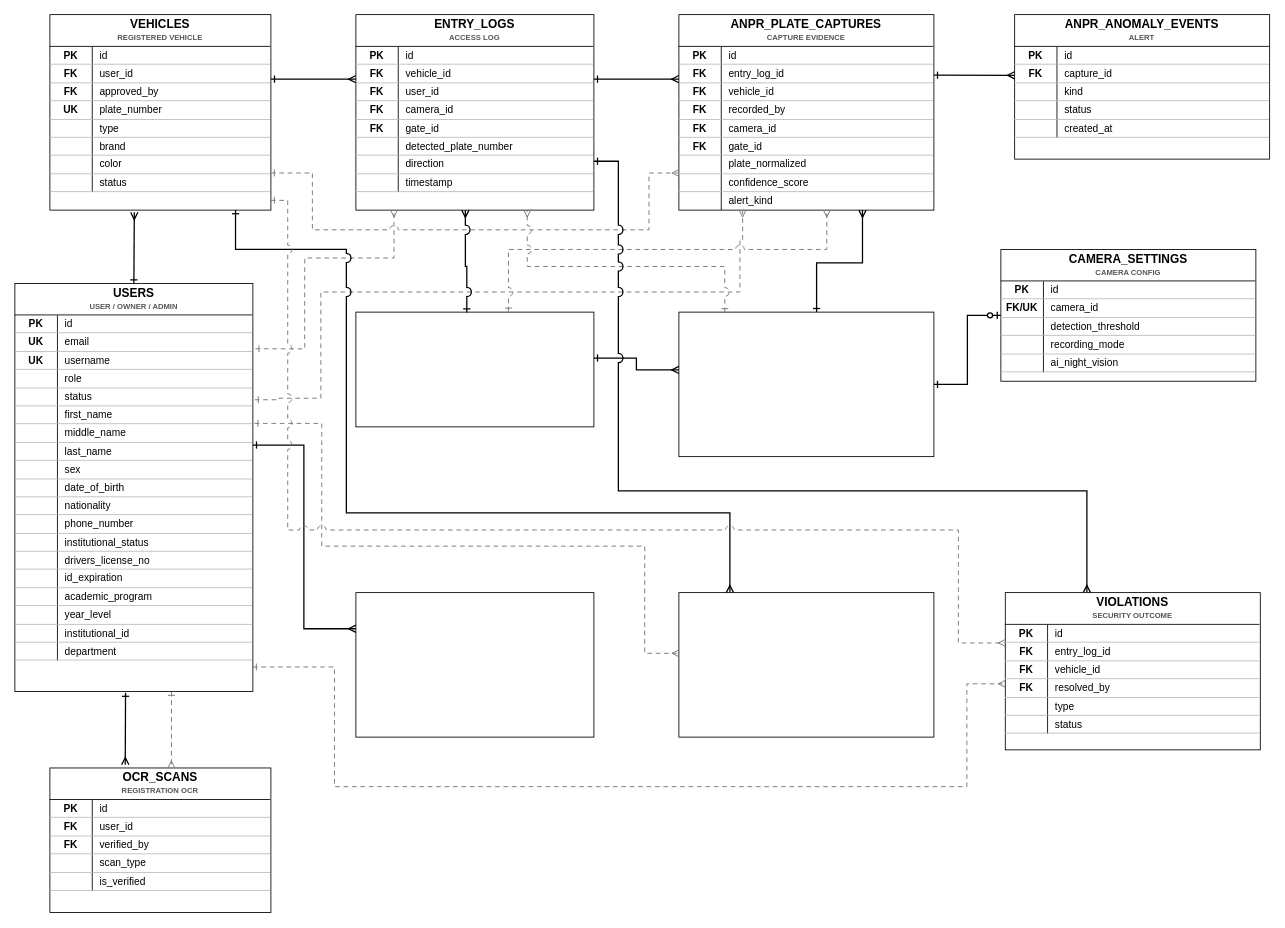
Some shapes in this 1285 by 928 pixel diagram are drawn without their labels. Here are the shapes that lost their labels. From the top down, the centre of each, then its label:
[474,369]: GATES GATE ENTRANCE PK id name location_description status
[806,384]: CAMERAS CAMERA DEVICE PK id FK gate_id name direction ip_address
[474,664]: NOTIFICATIONS USER NOTIFICATION PK id FK user_id title message is_read
[806,664]: BLACKLIST_RECORDS SECURITY LIST PK id FK vehicle_id FK added_by reason is_active
